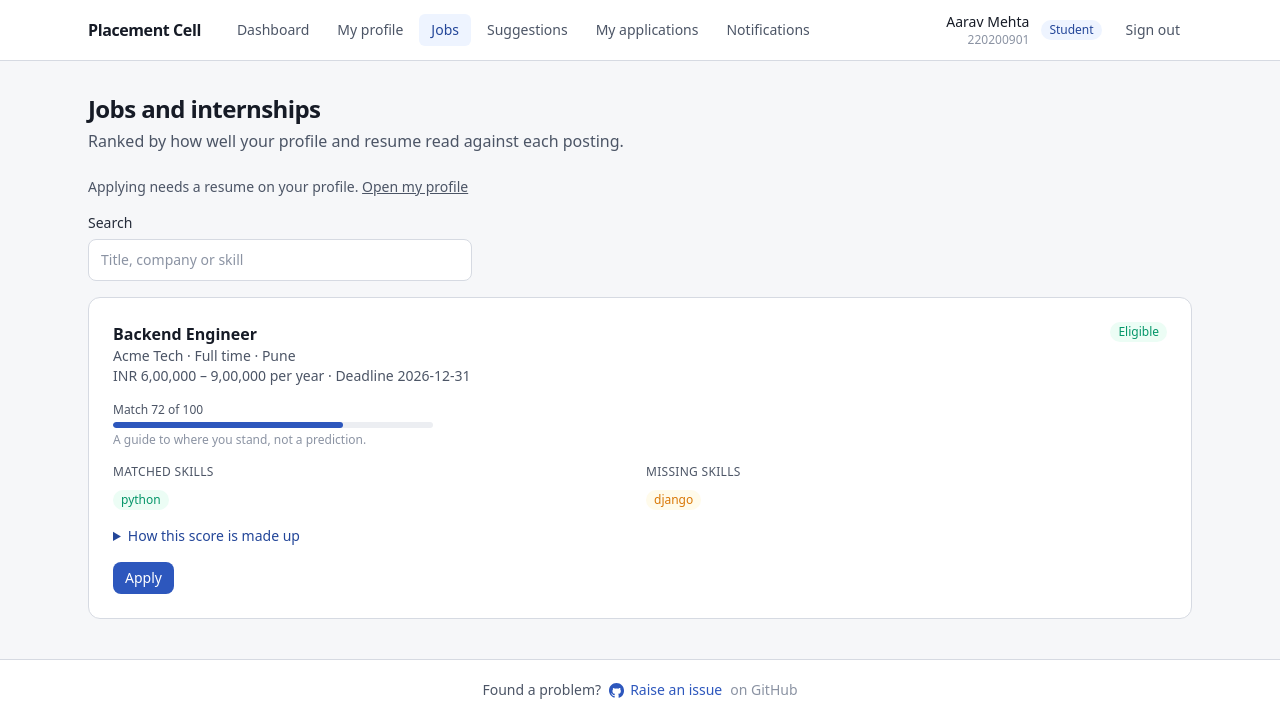
Test case: student jobs board › explains the deadline_passed refusal in plain words
Click the button "Apply" at [143, 578], box [113, 562, 174, 594]
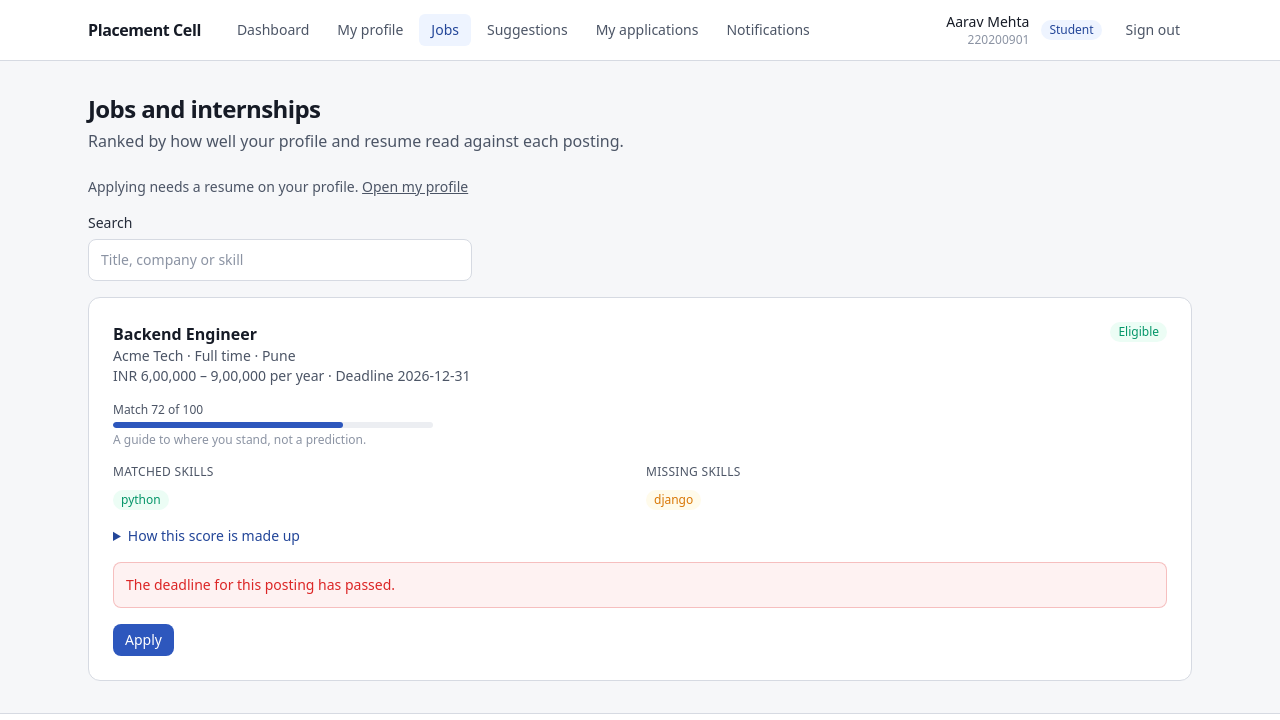
Now the message reads "The deadline for this posting has passed.", box [126, 575, 395, 594]
